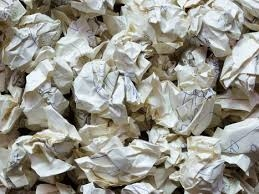paper: (72, 126, 169, 190), (68, 56, 149, 128), (5, 104, 82, 175), (48, 14, 114, 93), (138, 74, 220, 137), (1, 9, 63, 74), (96, 28, 165, 85), (169, 132, 232, 194), (169, 43, 232, 97), (187, 1, 246, 57), (216, 26, 259, 98)
